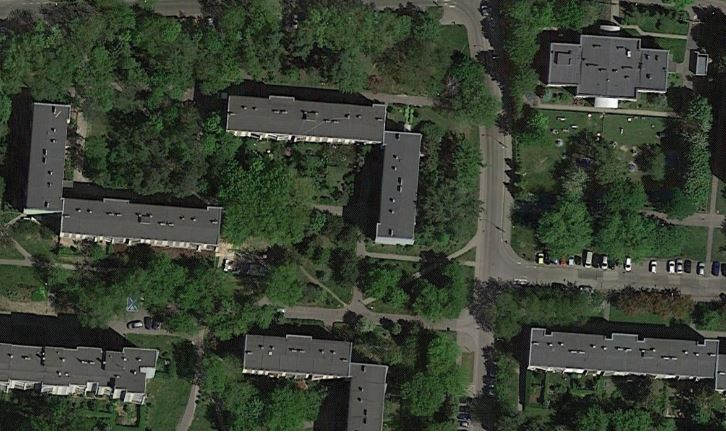block of flats: (24, 95, 223, 256), (221, 93, 423, 249), (240, 327, 394, 430), (524, 322, 726, 398), (540, 19, 675, 112), (1, 336, 159, 406)
